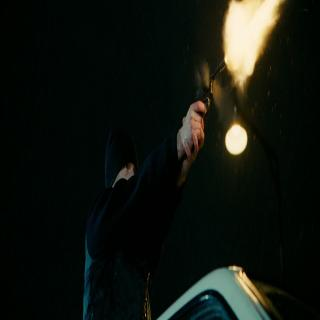gun: (180, 45, 223, 179)
